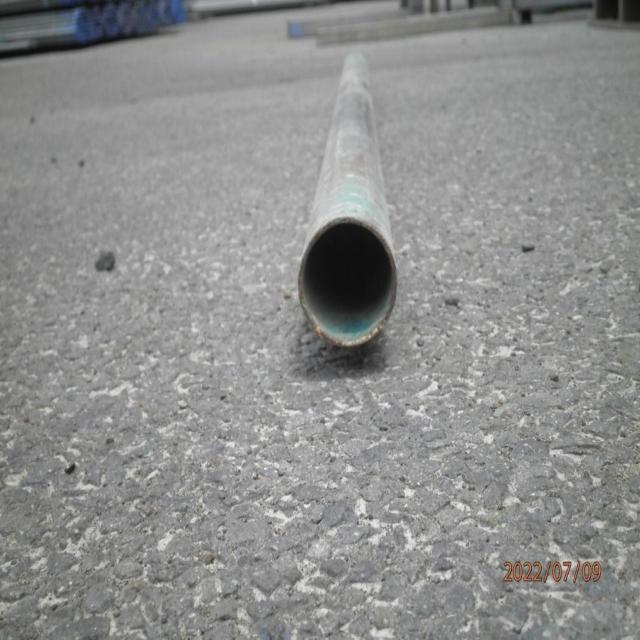pipe: (298, 214, 398, 349)
